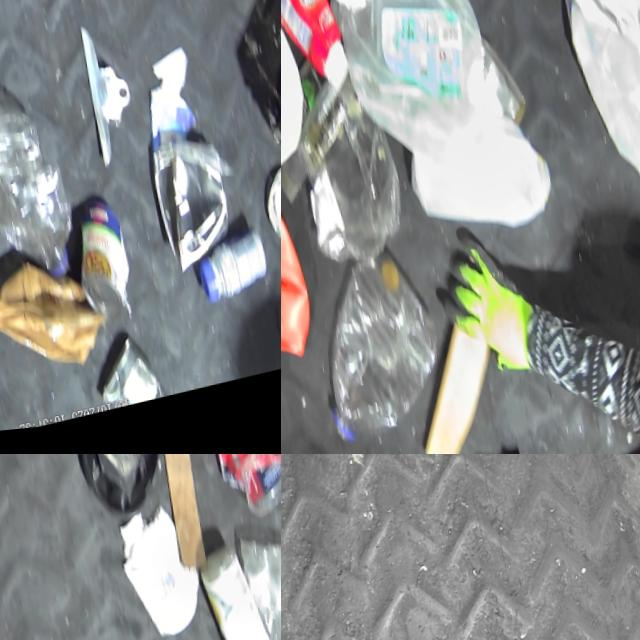can: (143, 145, 233, 288), (59, 204, 132, 335), (83, 339, 156, 420)
milk_jug: (324, 0, 502, 181), (393, 105, 557, 261), (552, 0, 640, 210), (281, 0, 318, 210)
non_white_jug: (60, 454, 170, 536), (281, 163, 318, 388), (281, 0, 353, 111)
plastic_bottle: (293, 237, 451, 454), (0, 104, 76, 303)
